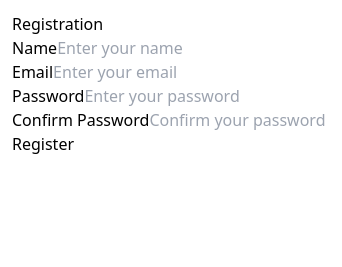
Test case: React Forms › RegistrationForm › validates required fields
The width and height of the screenshot is (342, 267).
Click the button "Register". click: (43, 144)
box: [12,132,74,156]
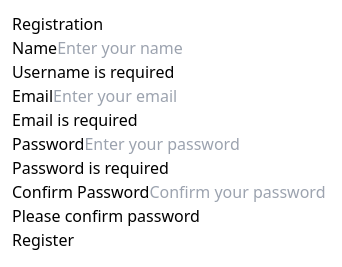
Expected: the text "Username is required" is shown, [12,61,174,83]
Expected: the text "Email is required" is shown, [12,109,138,131]
Expected: the text "Password is required" is shown, [12,157,169,179]
